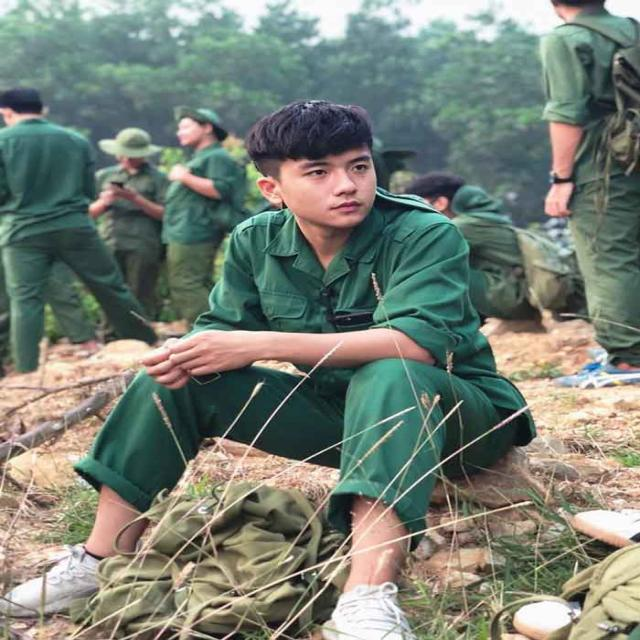Nonhelmet: (242, 98, 382, 230)
